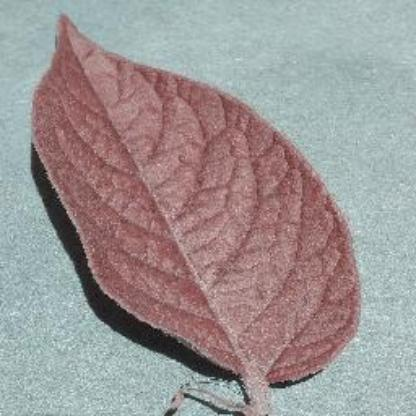Healthy-plant: (22, 7, 364, 393)
